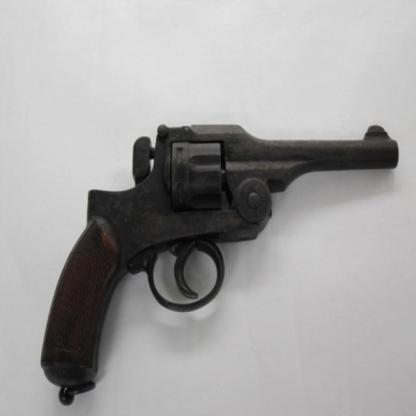weapon: (41, 122, 402, 405)
